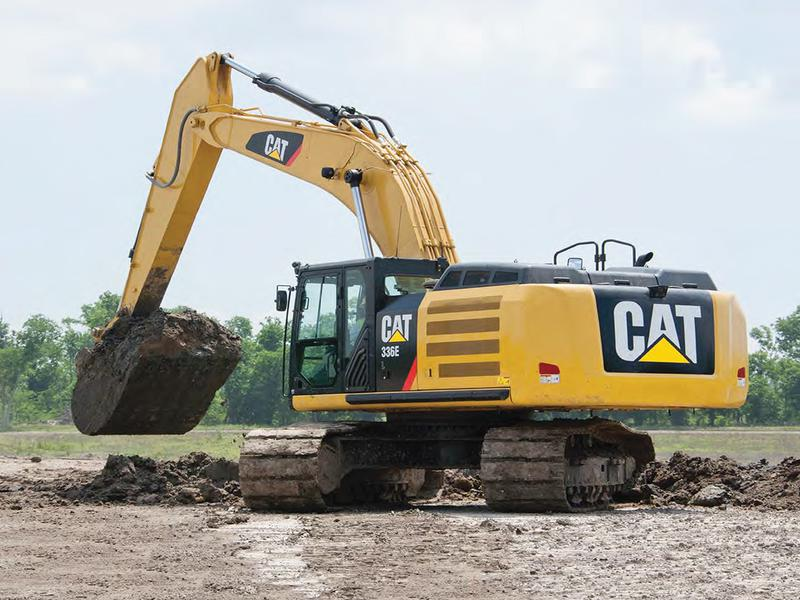shovel: (60, 44, 757, 524)
